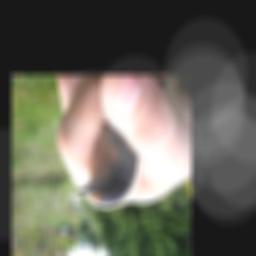Swallow: (76, 121, 140, 208)
